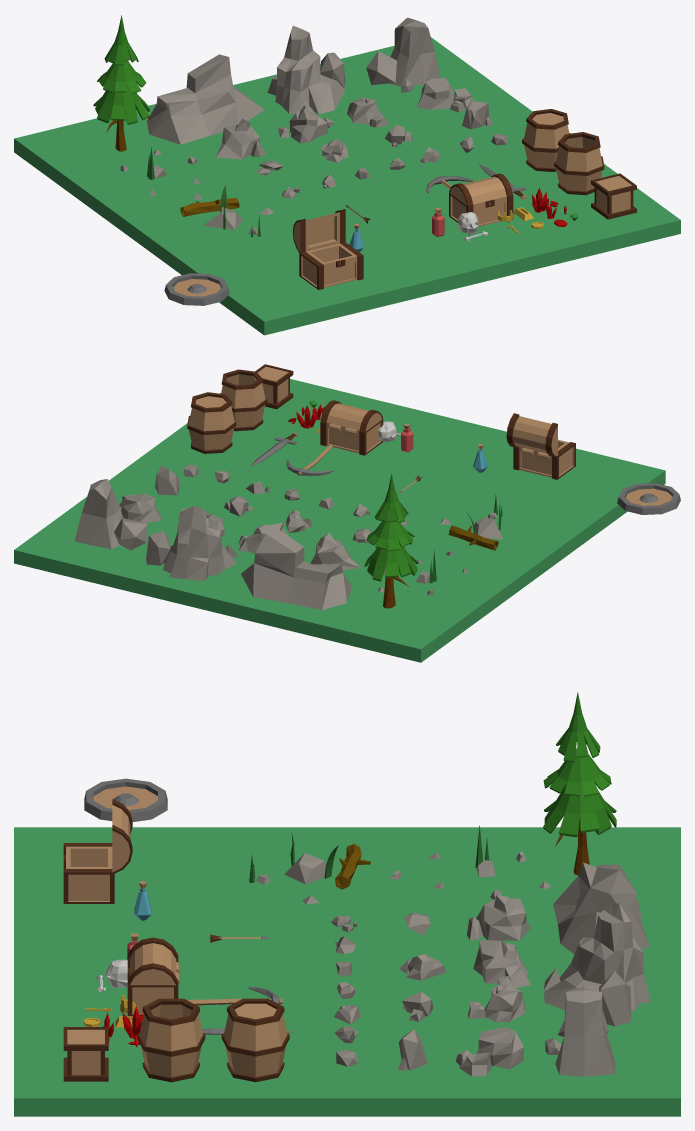
The model's file is stones_and_treasure.dae.
3 views of the same model, one above another, from view 1: azimuth 30°, elevation 25°; view 2: azimuth 150°, elevation 25°; view 3: azimuth 270°, elevation 25° (orthographic). The views are drawn at different scales.
Parts seen in each view (by area): view 1: Ground, Stone_1, Stone_2, Tree_Fir, Stone_3, Barrel_Ope, Chest_Clos, Chest_Ope0, Barrel_Clo, Shield, Chest_Open, Box (+7 smaller); view 2: Ground, Stone_1, Stone_2, Tree_Fir, Stone_3, Chest_Clos, Barrel_Clo, Barrel_Ope, Shield, Chest_Ope0, Chest_Open, Rocks_and0 (+5 smaller); view 3: Ground, Stone_2, Tree_Fir, Stone_1, Barrel_Clo, Barrel_Ope, Stone_3, Chest_Clos, Chest_Ope0, Shield, Box, Rocks_and0 (+9 smaller).
Boxes of the visible parts, x1,y1,x2,y2 form: Ground: (14, 37, 680, 335); Stone_1: (147, 54, 264, 144); Stone_2: (267, 25, 345, 114); Tree_Fir: (93, 15, 152, 151); Stone_3: (366, 17, 440, 92); Barrel_Ope: (554, 132, 604, 195); Chest_Clos: (449, 173, 513, 226); Chest_Ope0: (299, 242, 363, 289); Barrel_Clo: (522, 109, 570, 171); Shield: (164, 273, 229, 305); Chest_Open: (292, 209, 345, 252); Box: (591, 173, 636, 219); Ground: (14, 379, 665, 662); Stone_1: (241, 525, 351, 610); Stone_2: (146, 505, 238, 580); Tree_Fir: (364, 473, 418, 608); Stone_3: (74, 479, 147, 550); Chest_Clos: (320, 400, 383, 455); Barrel_Clo: (187, 392, 236, 453); Barrel_Ope: (220, 369, 267, 431); Shield: (617, 483, 680, 514); Chest_Ope0: (513, 439, 575, 479); Chest_Open: (506, 413, 557, 457); Rocks_and0: (440, 495, 502, 555); Ground: (14, 827, 680, 1116); Stone_2: (544, 903, 650, 1026); Tree_Fir: (543, 691, 616, 875); Stone_1: (553, 862, 649, 954); Barrel_Clo: (221, 998, 289, 1082); Barrel_Ope: (137, 998, 205, 1082); Stone_3: (545, 986, 615, 1076); Chest_Clos: (127, 937, 179, 1016); Chest_Ope0: (63, 843, 114, 903); Shield: (84, 778, 167, 821); Box: (63, 1027, 108, 1081); Rocks_and0: (249, 832, 401, 904).
Size of the model in its own units: 2.46 by 2.27 by 0.7473.
